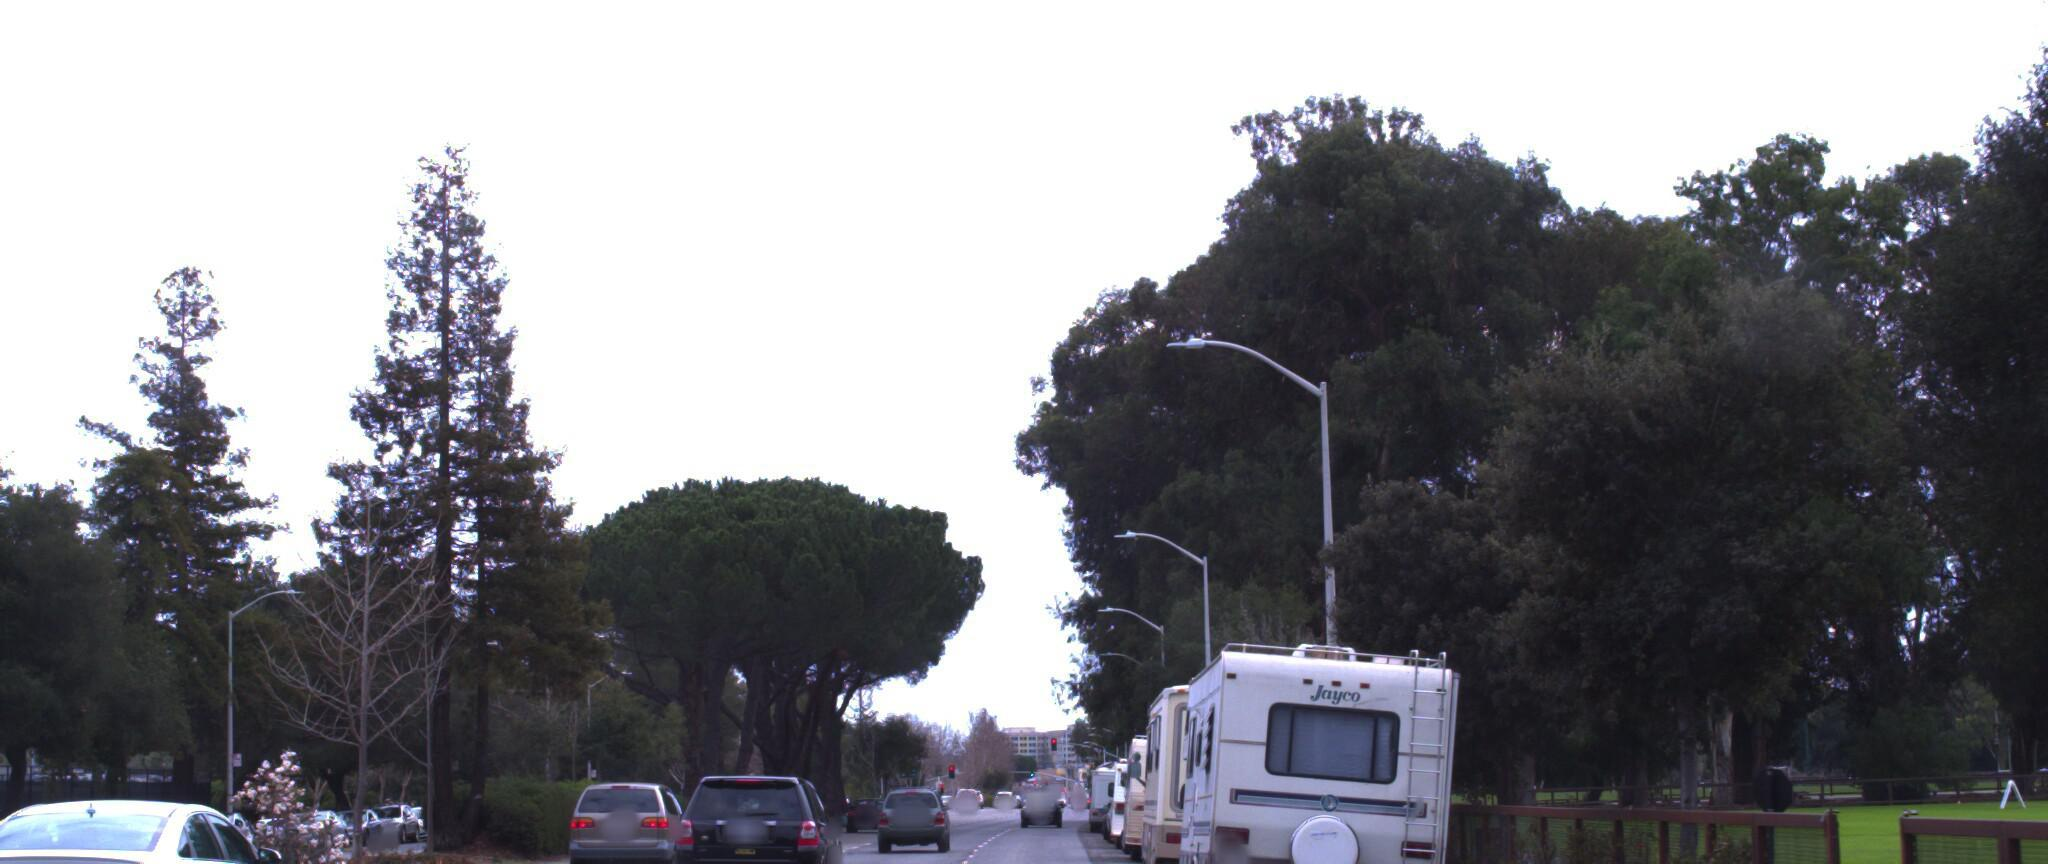car: (0, 766, 342, 864), (671, 753, 848, 864), (562, 747, 703, 851), (888, 761, 960, 827)
other_vehicle: (1156, 600, 1486, 864), (1126, 640, 1341, 864), (1105, 700, 1249, 852)
